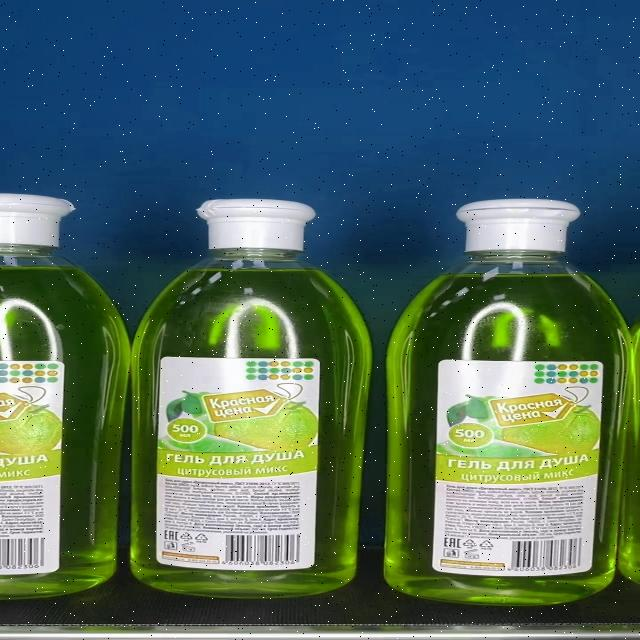Bottle: (386, 200, 631, 606), (130, 198, 371, 598)
Cap: (454, 200, 580, 252), (196, 200, 316, 250)
